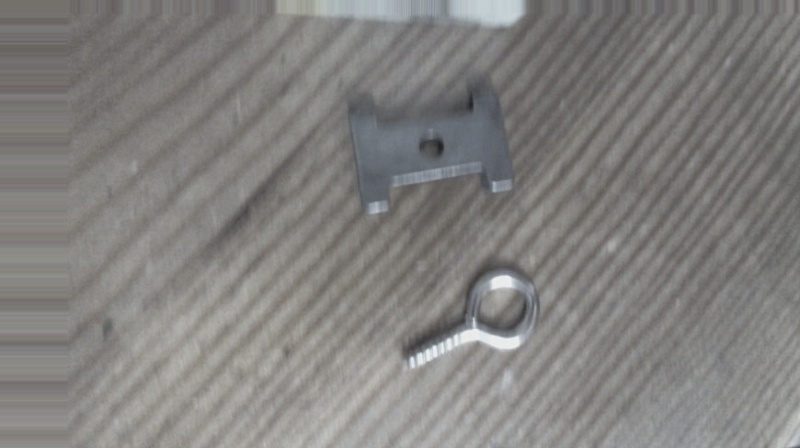O001: (390, 264, 547, 376)
O002: (342, 82, 518, 216)
